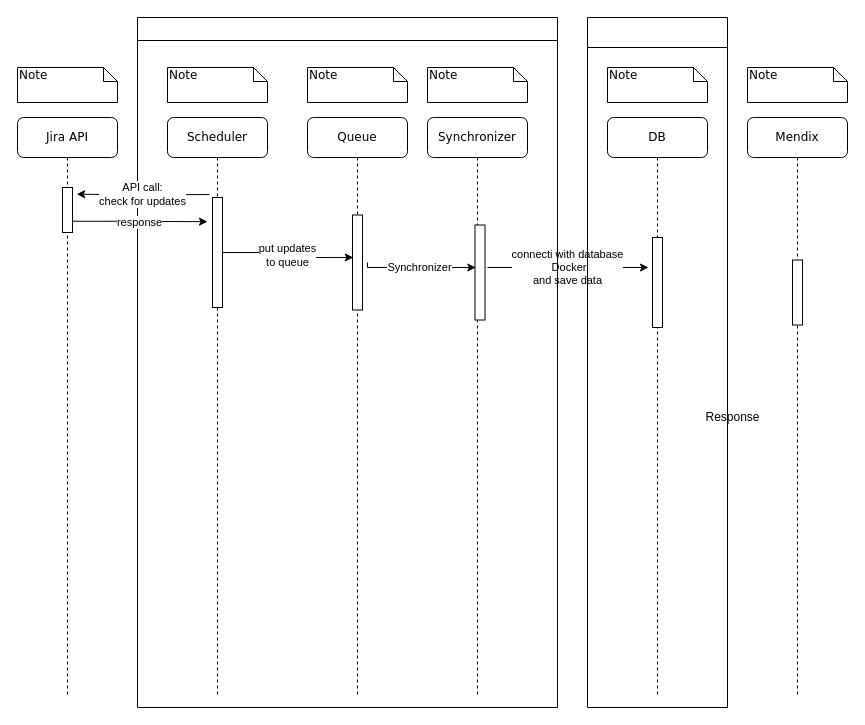
Image size: 865x725. Some labels were removed from this diagram. The shapes that lost their labels are listed below. From the top down, each one's centre as x and y in pixels, then its label:
(347,362): App Container (Docker)
(657,362): DB DOCKER
